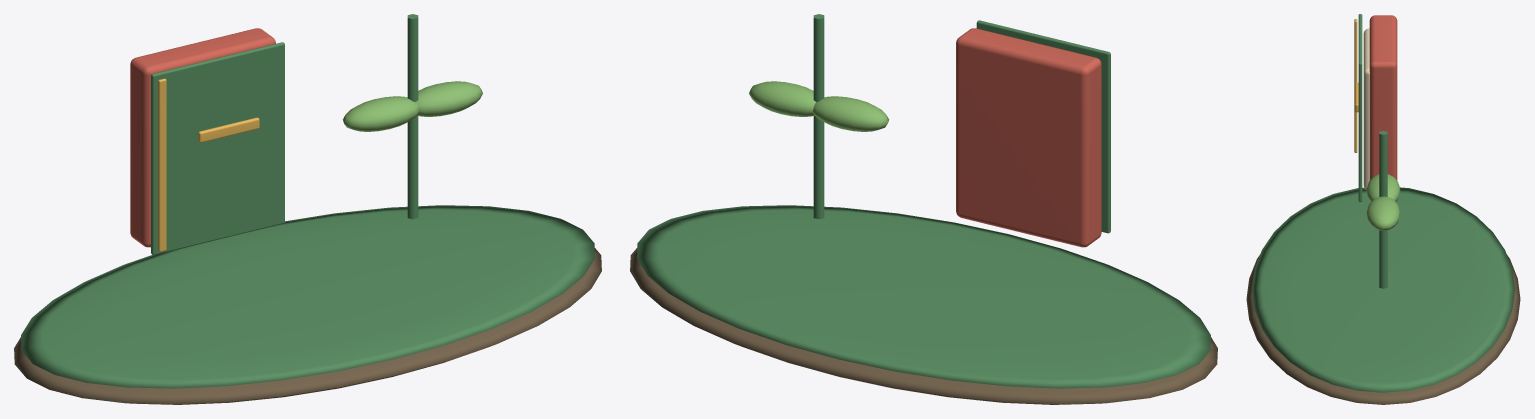
Rendered from growing-student.glb.
3 renders of one model, left to right at view 1: azimuth 30°, elevation 25°; view 2: azimuth 150°, elevation 25°; view 3: azimuth 270°, elevation 25°, orthographic. The views are drawn at different scales.
Visible parts, largest first — view 1: growing-student_surface_01, growing-student_surface_00, growing-student_surface_02, growing-student_surface_05, growing-student_surface_04; view 2: growing-student_surface_01, growing-student_surface_02, growing-student_surface_00, growing-student_surface_05; view 3: growing-student_surface_01, growing-student_surface_00, growing-student_surface_02, growing-student_surface_05, growing-student_surface_03, growing-student_surface_04.
Boxes of the visible parts, bbox=[...] form: growing-student_surface_01: bbox=[21, 14, 594, 388]; growing-student_surface_00: bbox=[14, 248, 601, 404]; growing-student_surface_02: bbox=[130, 28, 275, 247]; growing-student_surface_05: bbox=[342, 81, 482, 131]; growing-student_surface_04: bbox=[158, 78, 259, 251]; growing-student_surface_01: bbox=[637, 14, 1210, 388]; growing-student_surface_02: bbox=[956, 28, 1101, 247]; growing-student_surface_00: bbox=[630, 248, 1217, 404]; growing-student_surface_05: bbox=[749, 81, 889, 131]; growing-student_surface_01: bbox=[1252, 14, 1514, 392]; growing-student_surface_00: bbox=[1246, 255, 1520, 404]; growing-student_surface_02: bbox=[1369, 15, 1397, 180]; growing-student_surface_05: bbox=[1366, 174, 1400, 230]; growing-student_surface_03: bbox=[1363, 28, 1369, 189]; growing-student_surface_04: bbox=[1354, 19, 1358, 152].
Bounding box in the file's own units: 4.56 × 2.36 × 2.5.
